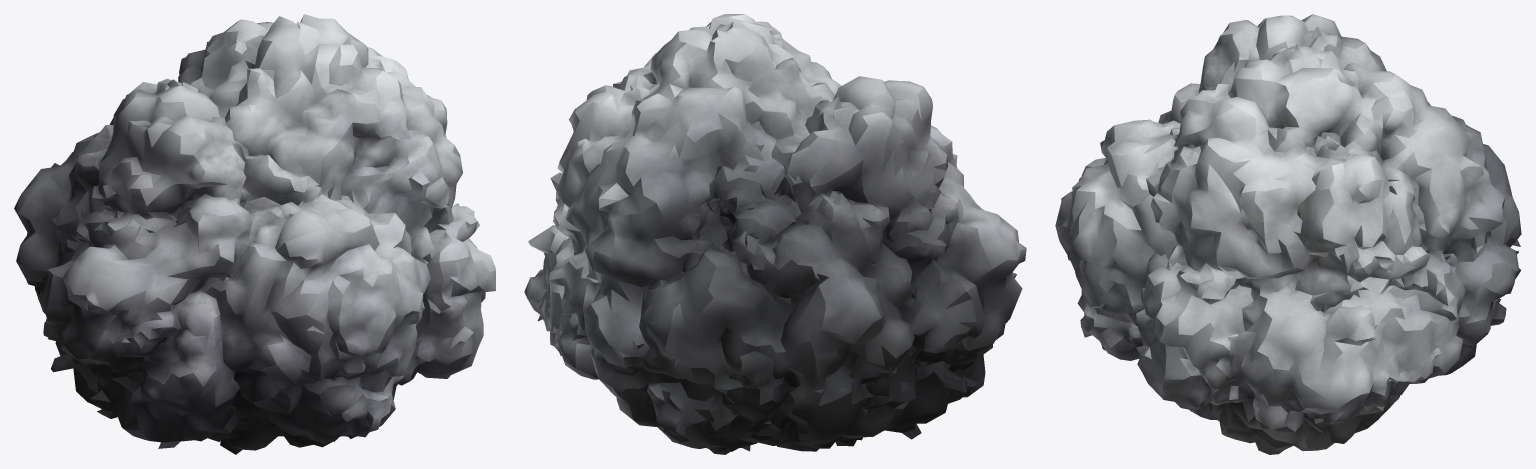
The picture shows the model from 3 angles, left to right: view 1: azimuth 30°, elevation 25°; view 2: azimuth 150°, elevation 25°; view 3: azimuth 270°, elevation 25°; orthographic projection. The views are drawn at different scales.
Parts seen in each view (by area): view 1: world; view 2: world; view 3: world.
Boxes of the visible parts, x1,y1,x2,y2 form: world: (14,14,495,454); world: (524,14,1026,454); world: (1055,14,1521,454).
Bounding box in the file's own units: 5 × 4.69 × 4.95.
1 material, 1 textured.
